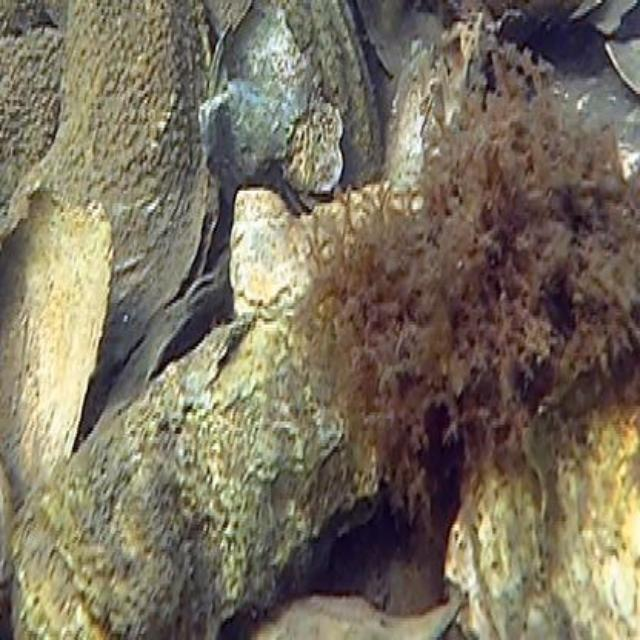Oyster-Closed: (11, 297, 385, 638), (457, 401, 638, 638), (0, 179, 110, 513), (234, 179, 423, 316), (304, 0, 386, 186), (0, 29, 66, 248), (283, 99, 345, 208)
Oyster-Open: (50, 0, 222, 376)
